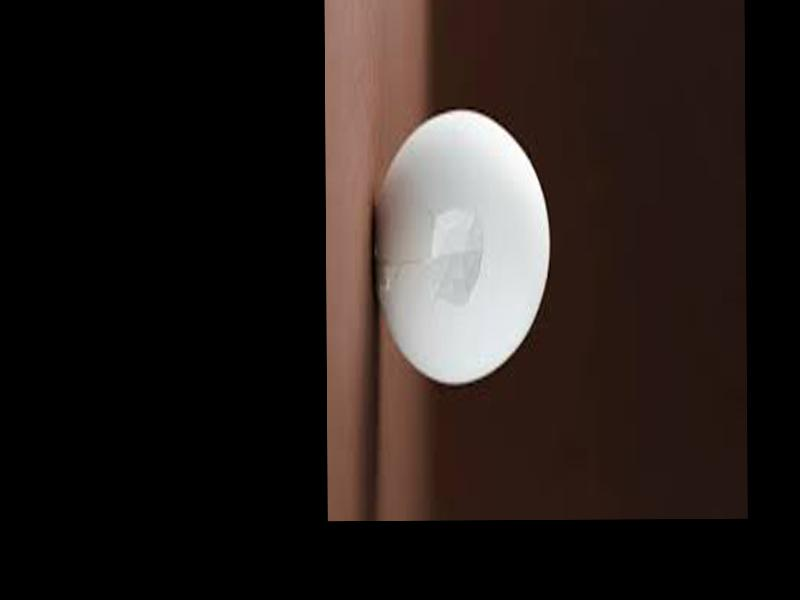Eggs: (372, 110, 551, 380)
